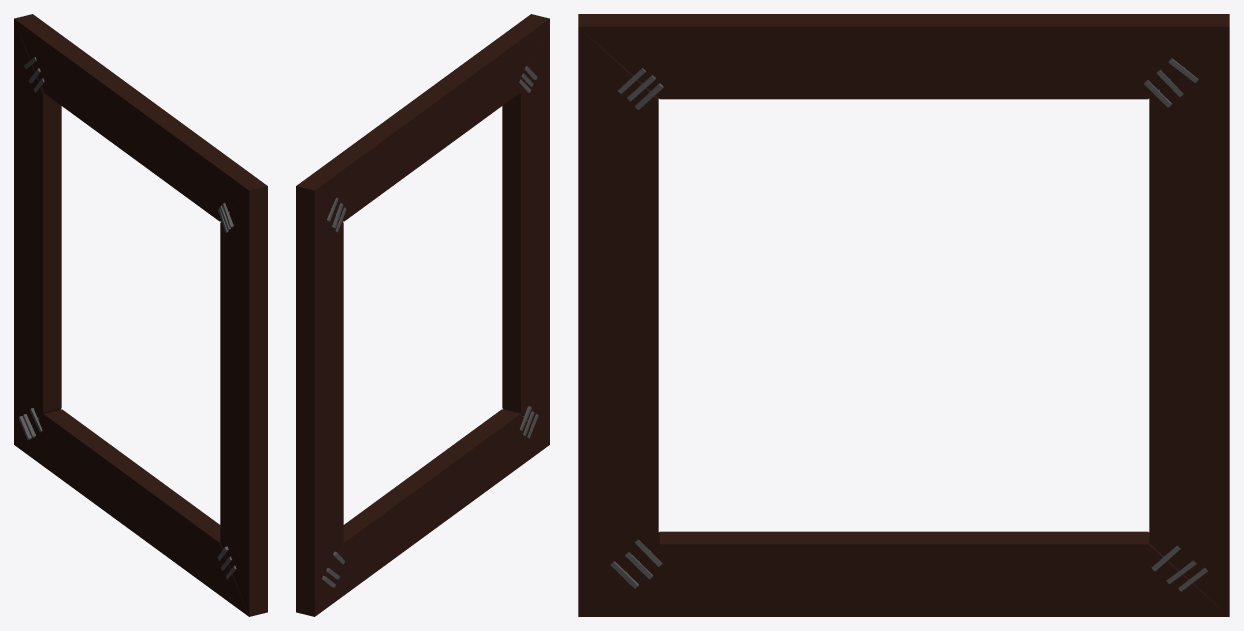
3 renders of one model, left to right at view 1: azimuth 30°, elevation 25°; view 2: azimuth 150°, elevation 25°; view 3: azimuth 270°, elevation 25°, orthographic. The views are drawn at different scales.
Parts seen in each view (by area): view 1: group1817489939, group187037681, group124956338, group2031294914; view 2: group187037681, group1817489939, group124956338, group2031294914; view 3: group124956338, group2031294914, group187037681, group1817489939.
Boxes of the visible parts, left/top/right/bottom form: group1817489939: left=220, top=186, right=267, bottom=616; group187037681: left=14, top=19, right=61, bottom=444; group124956338: left=14, top=14, right=267, bottom=221; group2031294914: left=14, top=409, right=248, bottom=616; group187037681: left=296, top=186, right=343, bottom=616; group1817489939: left=502, top=19, right=549, bottom=444; group124956338: left=296, top=14, right=549, bottom=221; group2031294914: left=315, top=409, right=549, bottom=616; group124956338: left=578, top=14, right=1229, bottom=99; group2031294914: left=579, top=531, right=1228, bottom=616; group187037681: left=1149, top=27, right=1229, bottom=616; group1817489939: left=578, top=27, right=658, bottom=616.
Size of the model in its own units: 0.0397 by 0.65 by 0.65.
